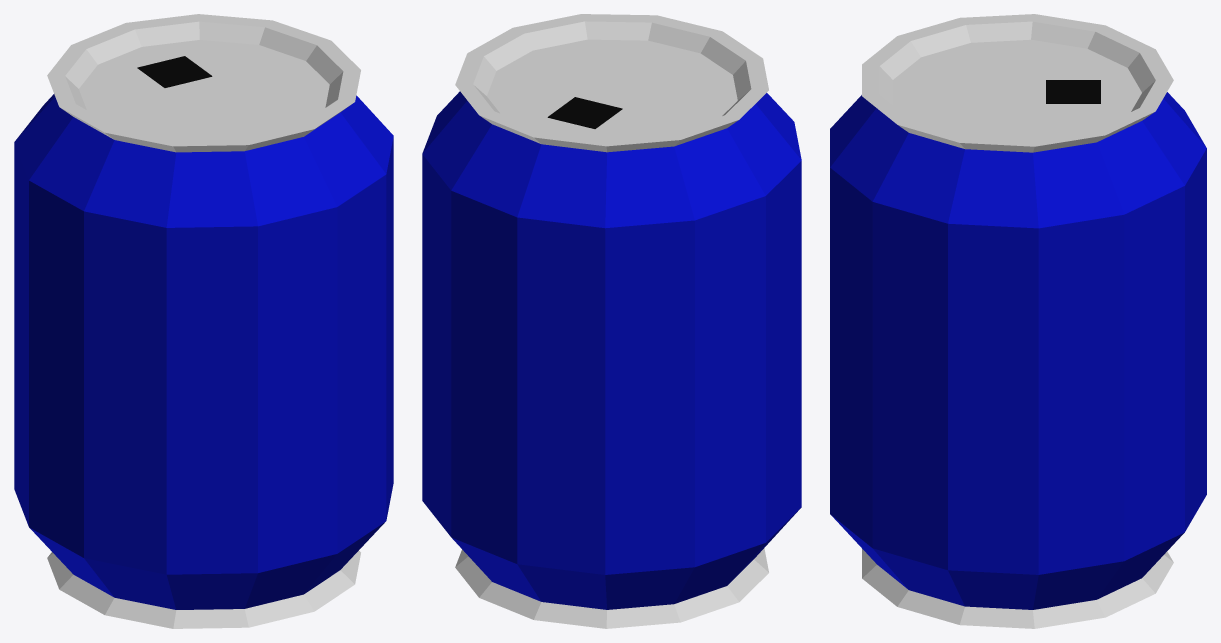
Rendered from can.fbx.
The picture shows the model from 3 angles, left to right: view 1: azimuth 30°, elevation 25°; view 2: azimuth 150°, elevation 25°; view 3: azimuth 270°, elevation 25°; orthographic projection.
Parts seen in each view (by area): view 1: Cylinder.001; view 2: Cylinder.001; view 3: Cylinder.001.
Boxes of the visible parts, x1,y1,x2,y2 form: Cylinder.001: [14, 14, 393, 628]; Cylinder.001: [422, 14, 801, 628]; Cylinder.001: [830, 14, 1206, 628].
Bounding box in the file's own units: 199 × 278 × 197.
